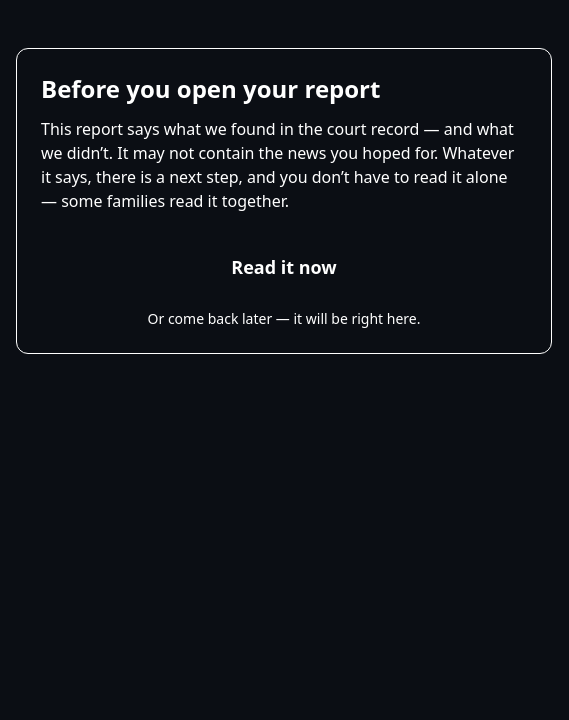
Test: re-run button (found 2026-11-01: a failed checkout call did nothing) › says so when checkout cannot be opened, and charges nothing
Click the button "Read it now" at {"x": 284, "y": 267}, box 41,237 -> 527,297
(page scrolled)
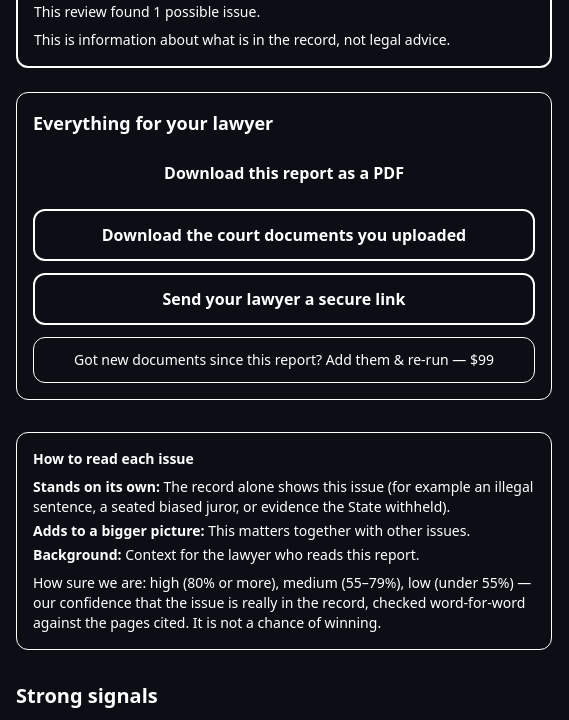
Click the button with test id "rerun-button" at {"x": 284, "y": 360}, box 33,337 -> 535,383
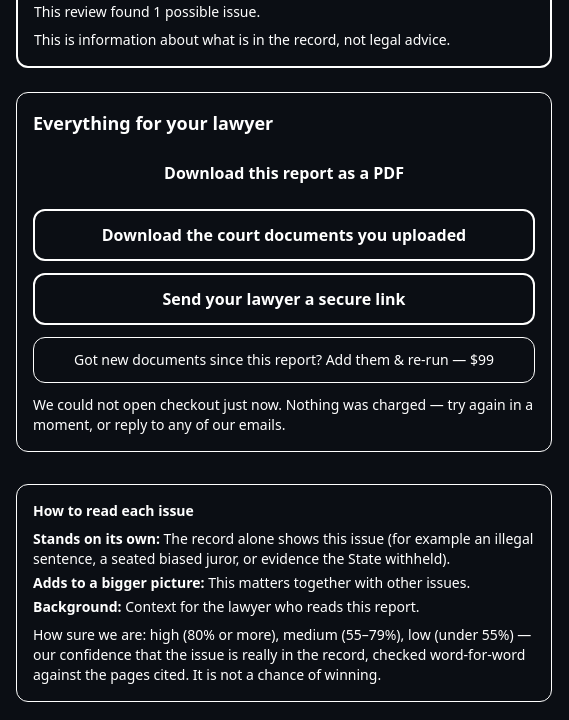
Expected: the message with test id "rerun-failed" shows "could not open checkout", 33,395 -> 533,434
